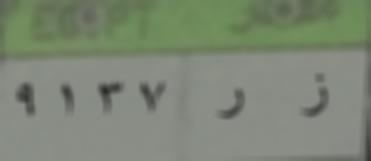1: (53, 80, 78, 122)
3: (92, 76, 127, 121)
7: (136, 76, 172, 120)
9: (15, 79, 40, 124)
raa: (214, 87, 246, 128)
zay: (295, 69, 332, 128)
